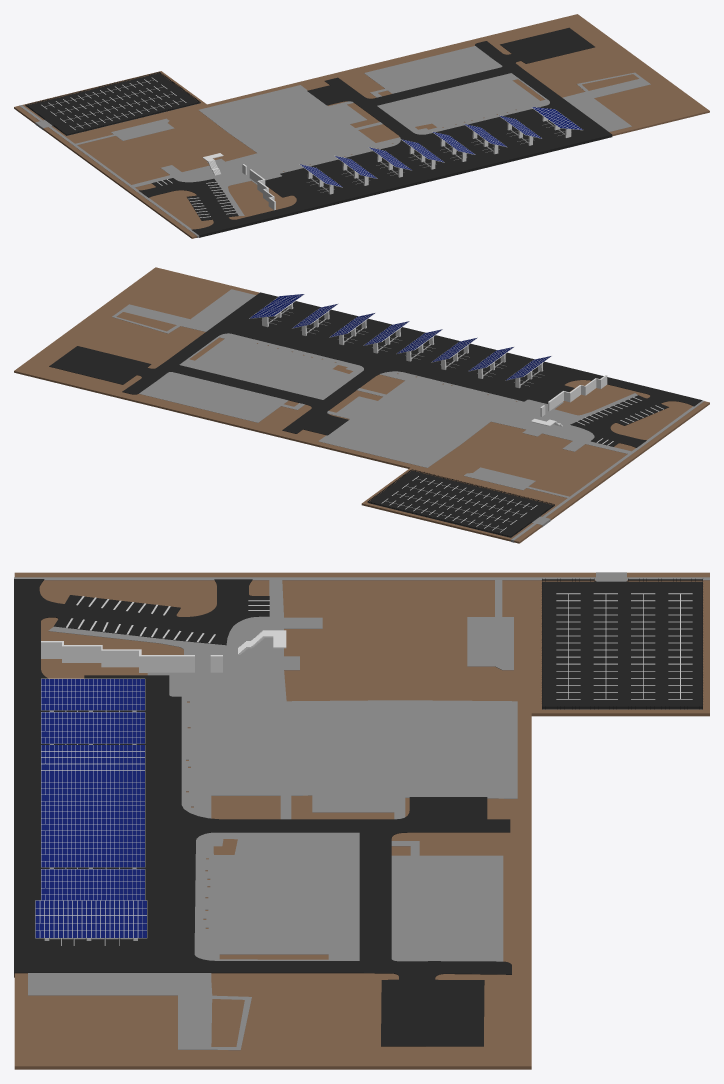
The model's file is thebuilding.glb.
The picture shows the model from 3 angles, top to bottom: view 1: azimuth 30°, elevation 25°; view 2: azimuth 150°, elevation 25°; view 3: azimuth 270°, elevation 25°; orthographic projection. The views are drawn at different scales.
Parts seen in each view (by area): view 1: sidewalk, gravel, parking, solarpanel, eastlines, solarparking, wall.001; view 2: sidewalk, gravel, parking, solarpanel, wall.001, eastlines, solarparking; view 3: sidewalk, gravel, parking, solarpanel, wall.001, eastlines.
Boxes of the visible parts, x1,y1,x2,y2 form: sidewalk: [19, 46, 650, 237]; gravel: [14, 14, 709, 238]; parking: [139, 27, 612, 237]; solarpanel: [299, 107, 582, 194]; eastlines: [41, 77, 186, 129]; solarparking: [307, 120, 564, 192]; wall.001: [242, 164, 275, 210]; sidewalk: [112, 289, 704, 542]; gravel: [14, 267, 709, 543]; parking: [49, 292, 702, 447]; solarpanel: [249, 294, 551, 388]; wall.001: [540, 375, 607, 416]; eastlines: [381, 476, 537, 532]; solarparking: [268, 308, 544, 386]; sidewalk: [14, 572, 709, 1050]; gravel: [14, 572, 709, 1069]; parking: [14, 579, 511, 1046]; solarpanel: [35, 678, 147, 940]; wall.001: [41, 641, 222, 672]; eastlines: [556, 593, 692, 699].
Size of the model in its own units: 17.91 by 0.5486 by 10.67.
